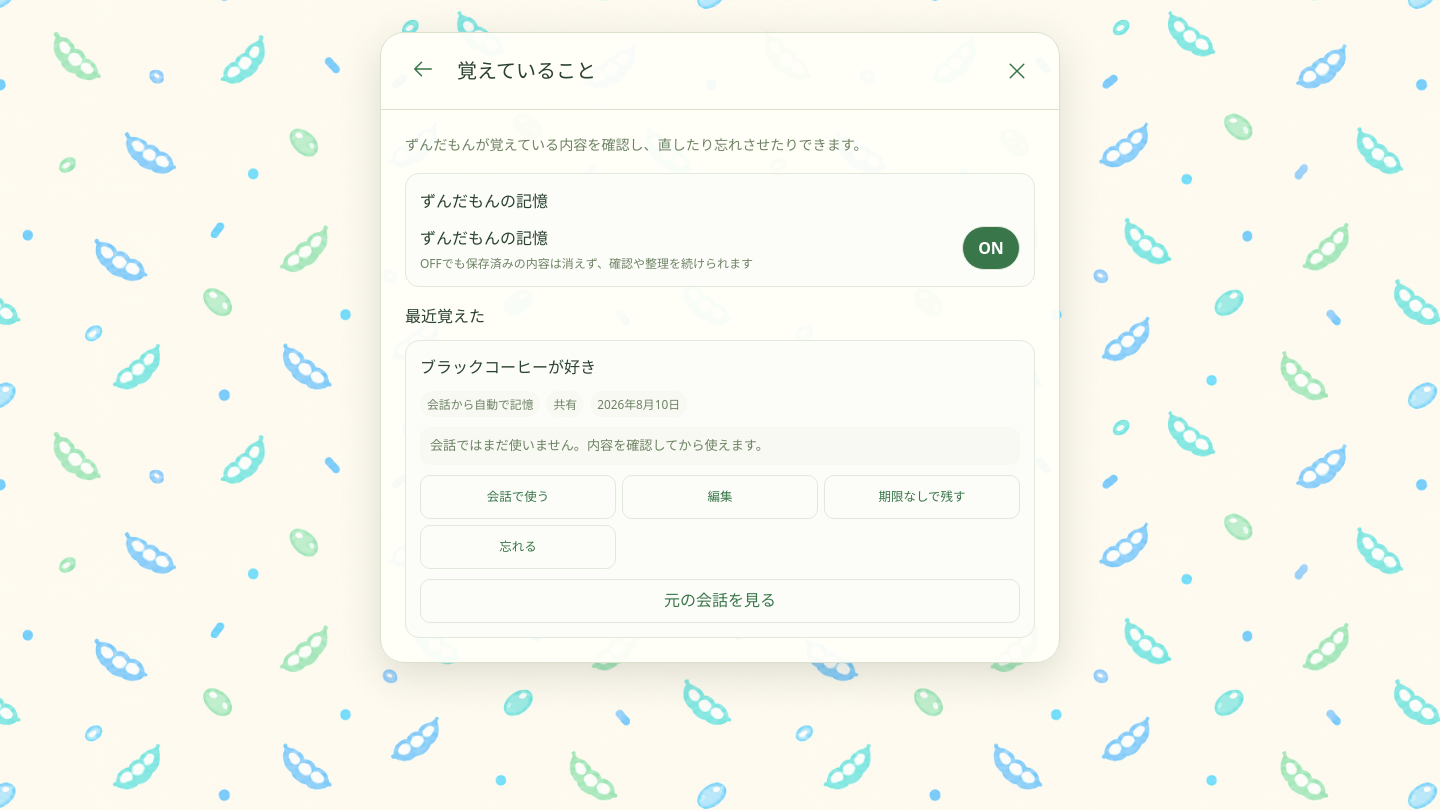
Scenario: saved memories › keeps a pending review memory only after an explicit owner action
This screenshot has width=1440, height=810.
Click the button with aria-label "この記憶を会話で使う".
click(518, 497)  # box [420,475,616,519]
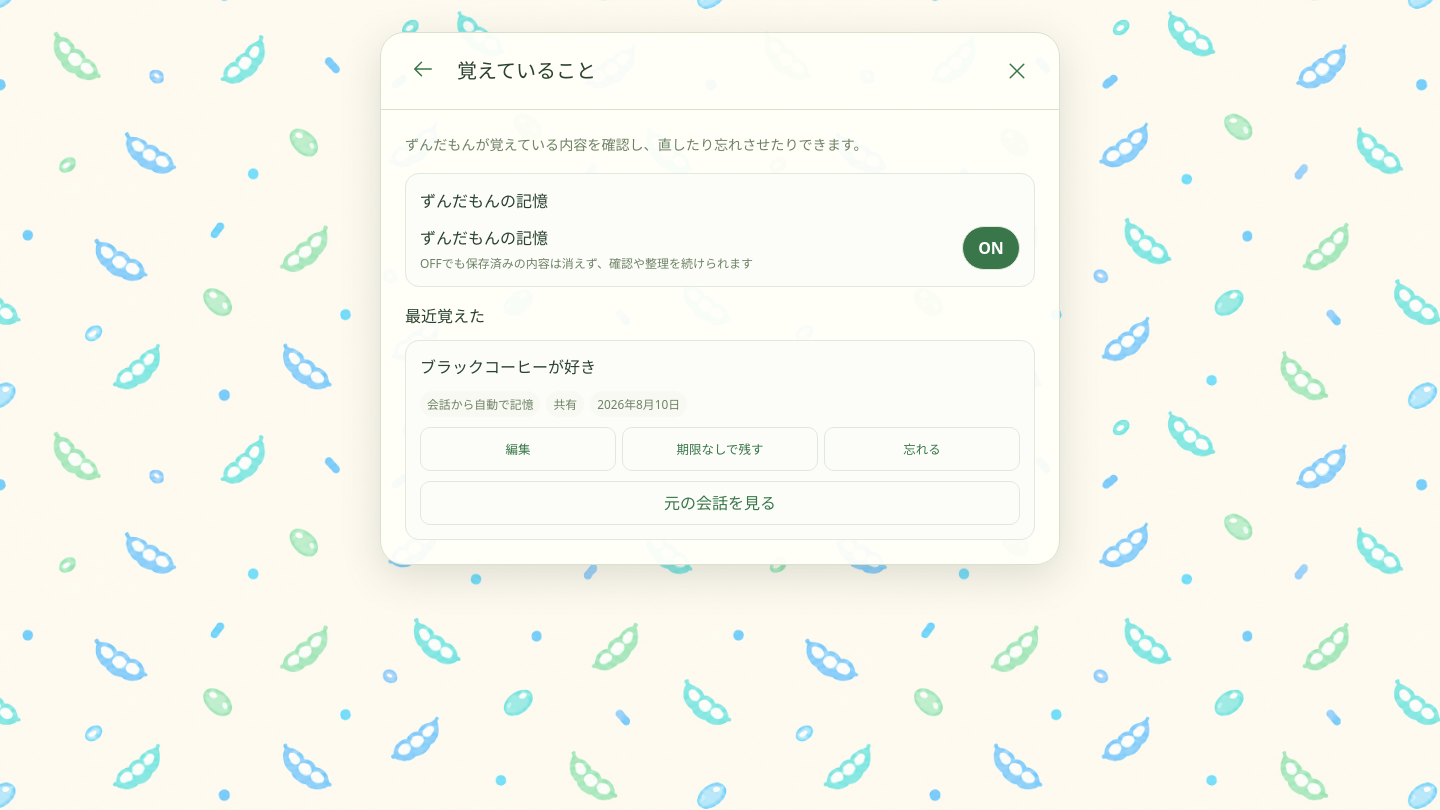
Check: the text "会話ではまだ使いません。内容を確認してから使えます。" is gone
